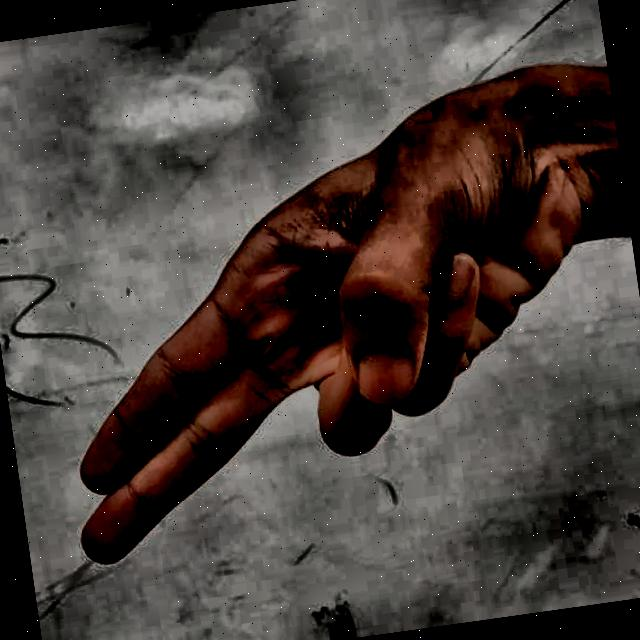Ha: (6, 76, 618, 634)
